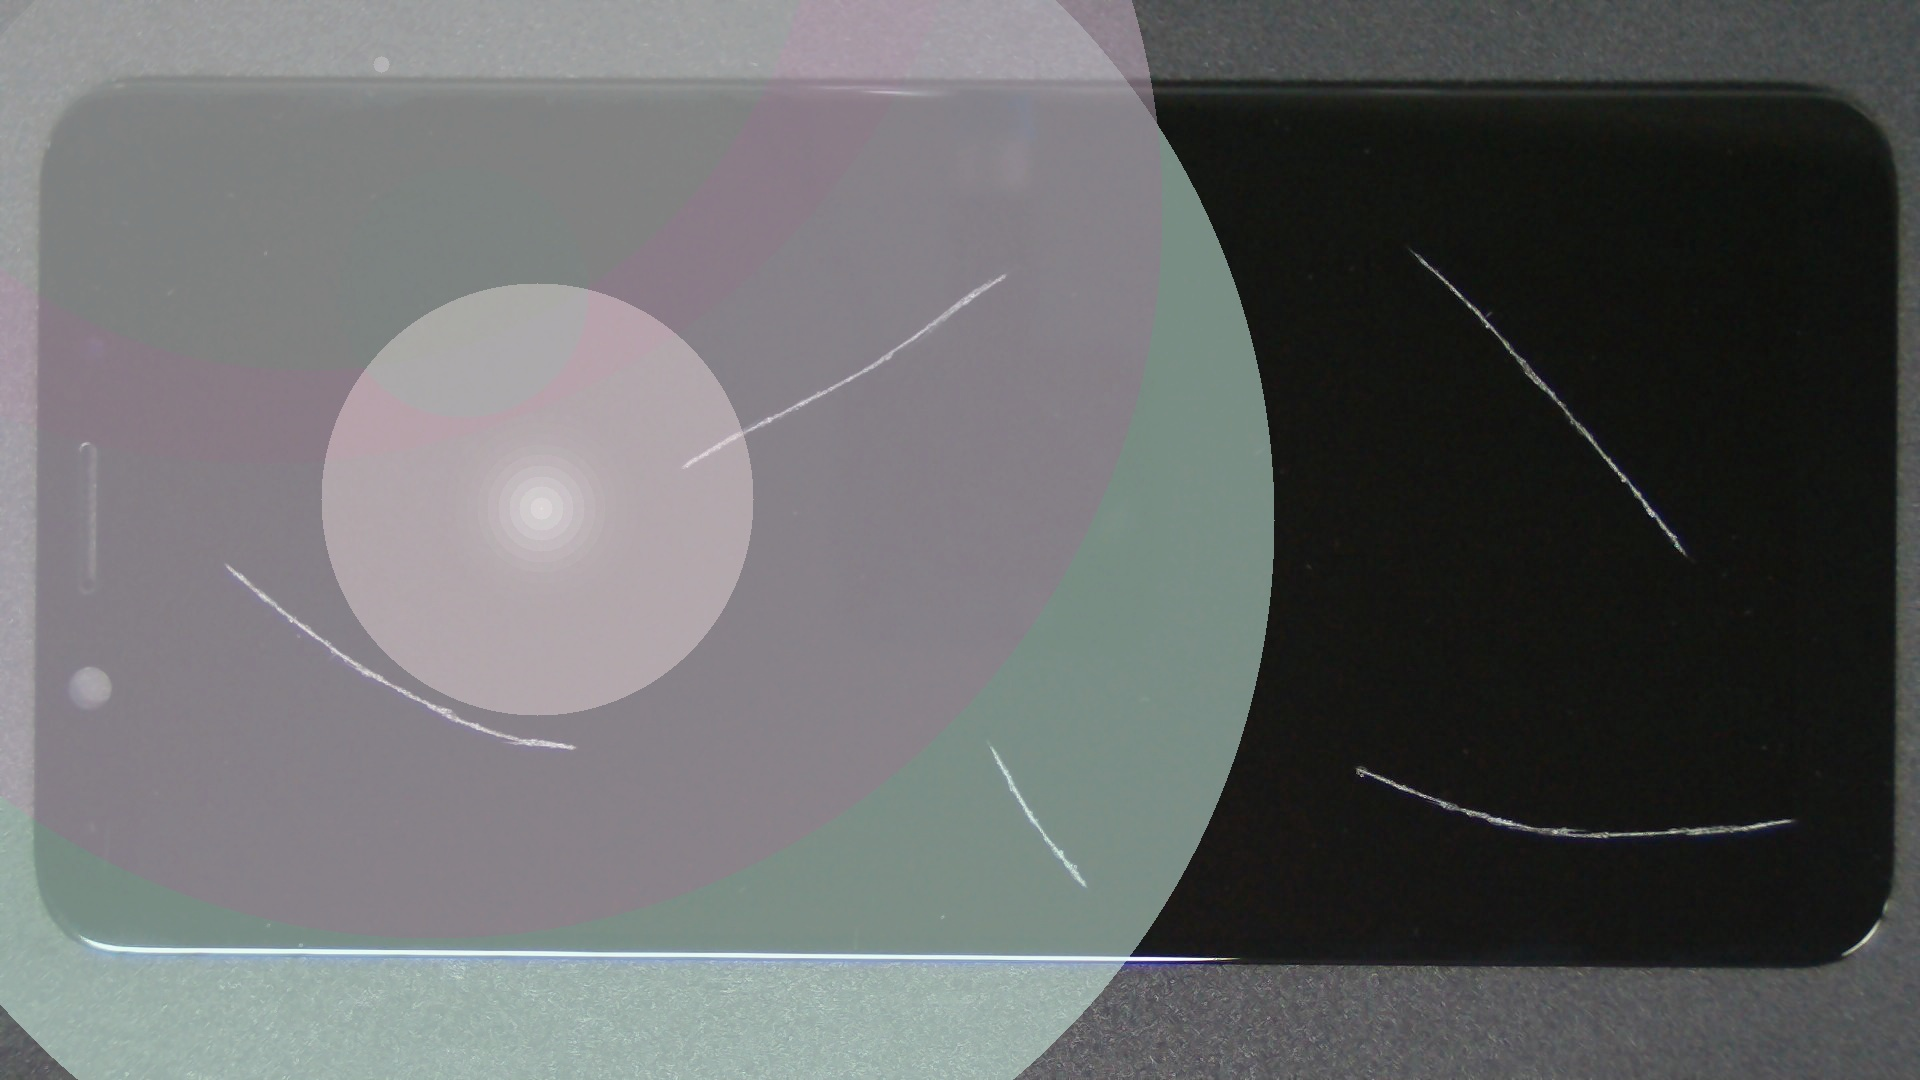oil: (680, 382, 1920, 1080), (493, 372, 1482, 1080), (703, 123, 1920, 373), (502, 137, 1506, 411), (108, 277, 340, 849)
